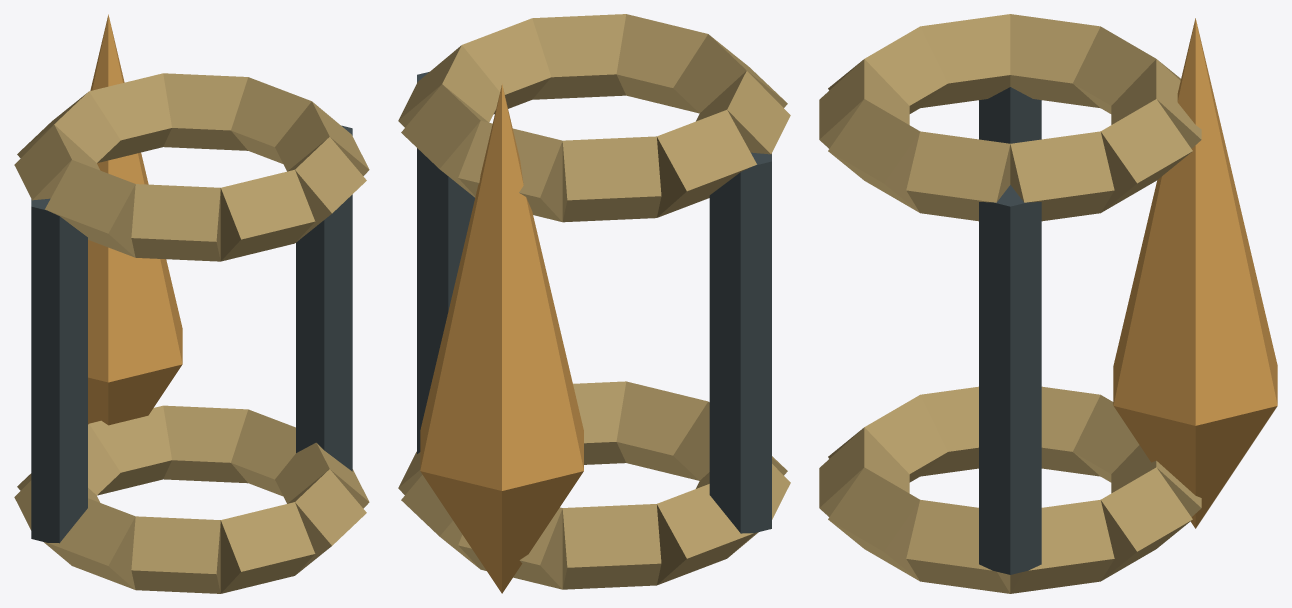
The model's file is Equip_RunePrecision.fbx.
3 renders of one model, left to right at view 1: azimuth 30°, elevation 25°; view 2: azimuth 150°, elevation 25°; view 3: azimuth 270°, elevation 25°, orthographic. The views are drawn at different scales.
Visible parts, largest first — view 1: Equip_RunePrecision; view 2: Equip_RunePrecision; view 3: Equip_RunePrecision.
Part boxes in pixels (bbox=[...]): Equip_RunePrecision: bbox=[14, 14, 369, 593]; Equip_RunePrecision: bbox=[398, 14, 790, 593]; Equip_RunePrecision: bbox=[819, 14, 1277, 593].
Size of the model in its own units: 0.182 by 0.25 by 0.203.
